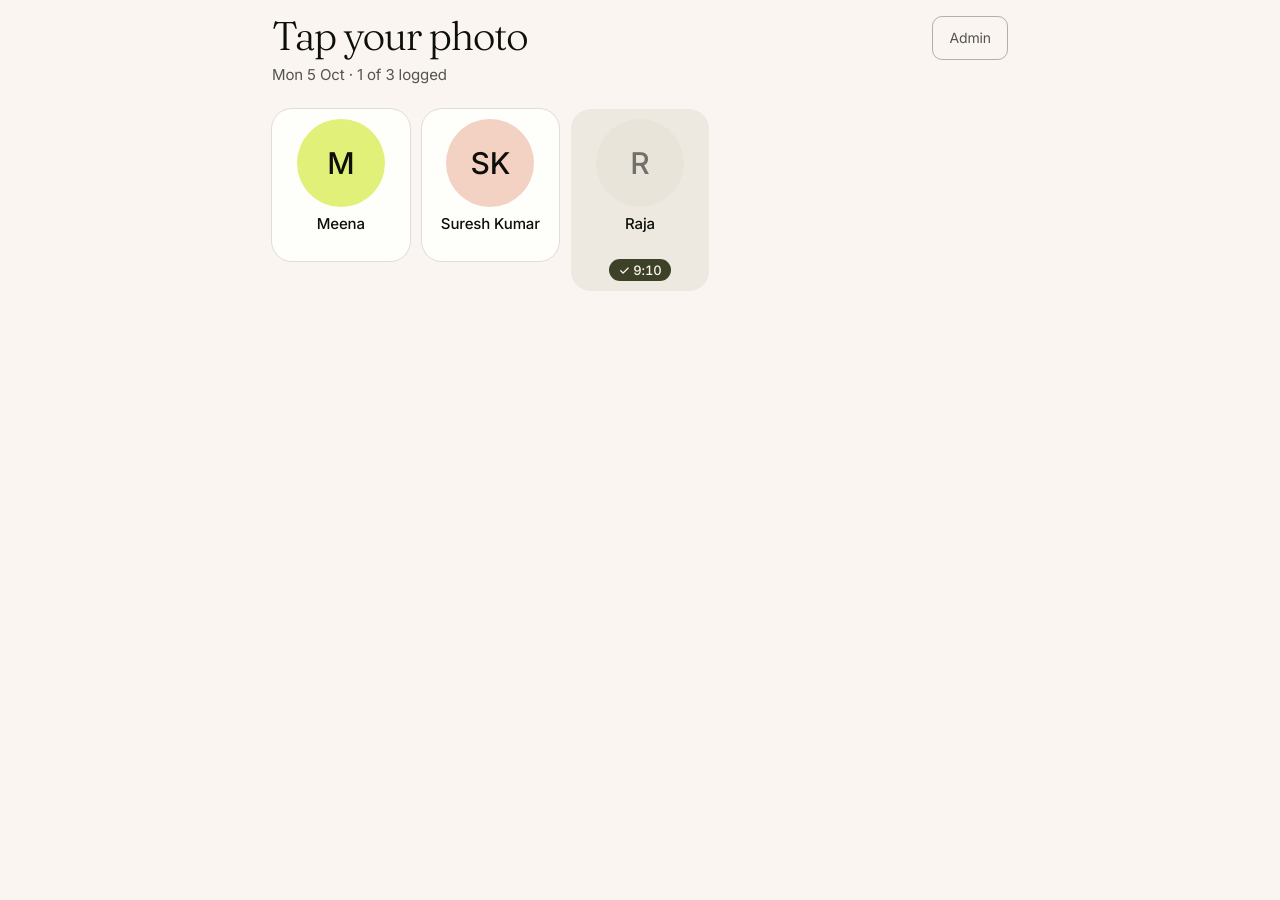
Scenario: Gate mode: the grid › an already-logged person only sees their time; nothing can be overwritten
Click the button with aria-label "Raja: logged at 9:10".
click(640, 200)  # box [571,109,709,291]
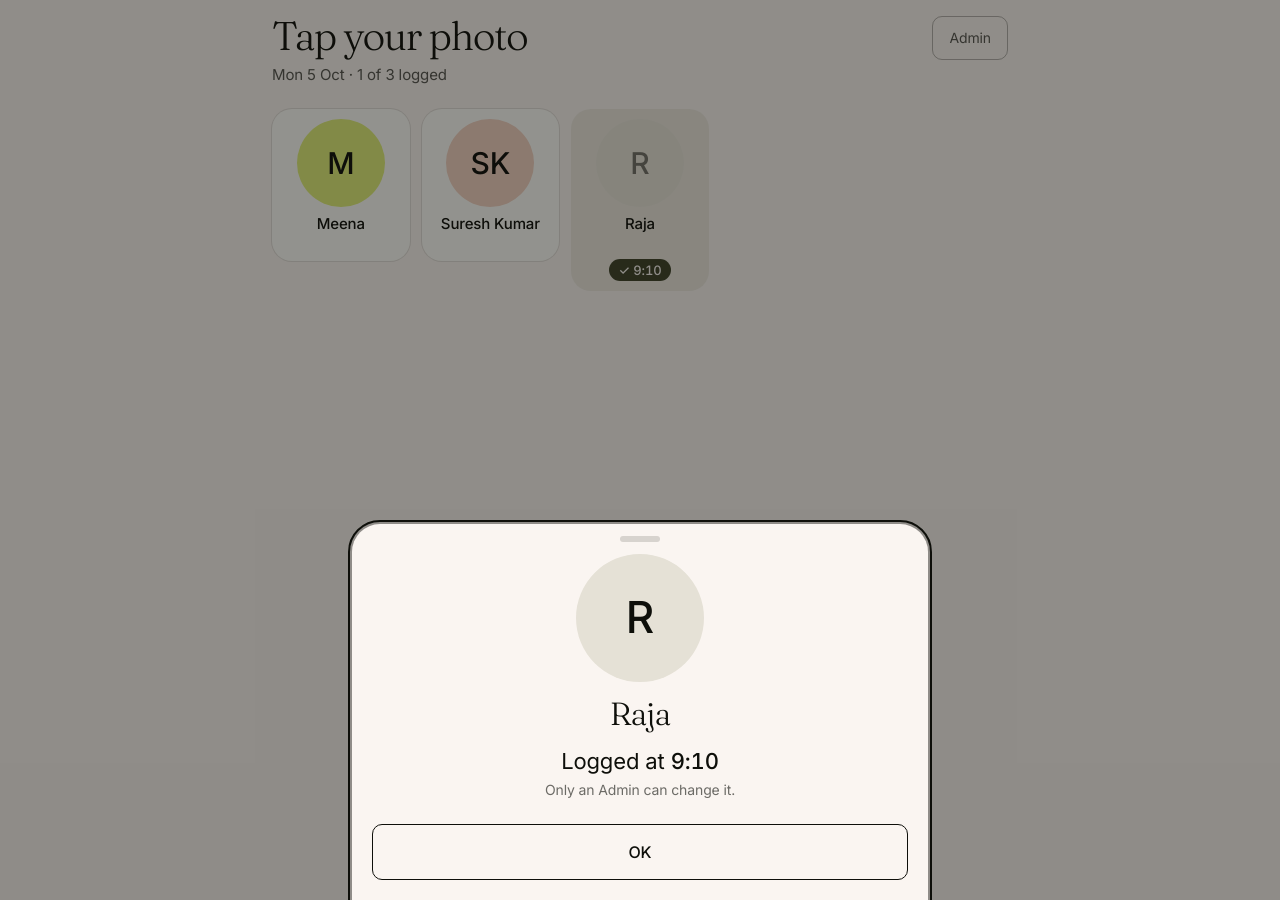
Expected: the text "9:10" is shown, [671,748,719,774]
